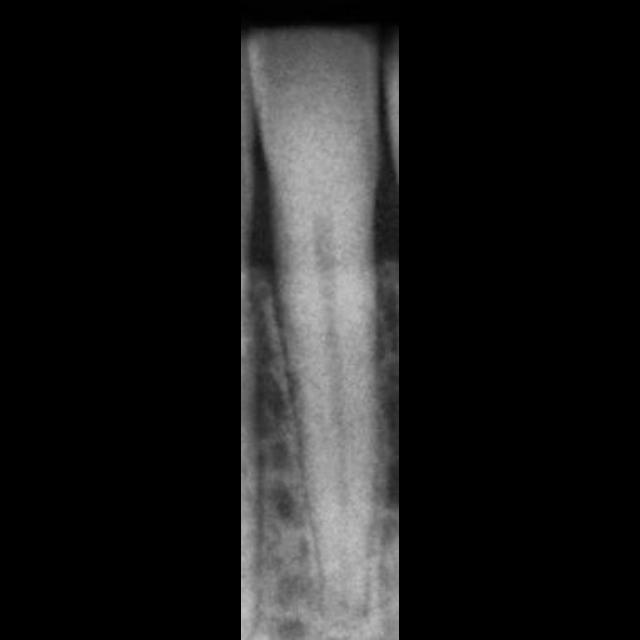tooth: (247, 27, 380, 624)
